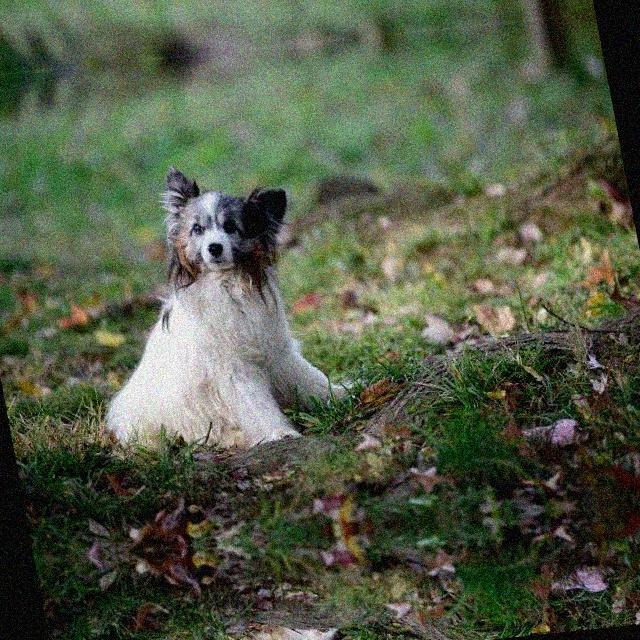dog: (50, 152, 362, 472), (135, 605, 400, 640)
